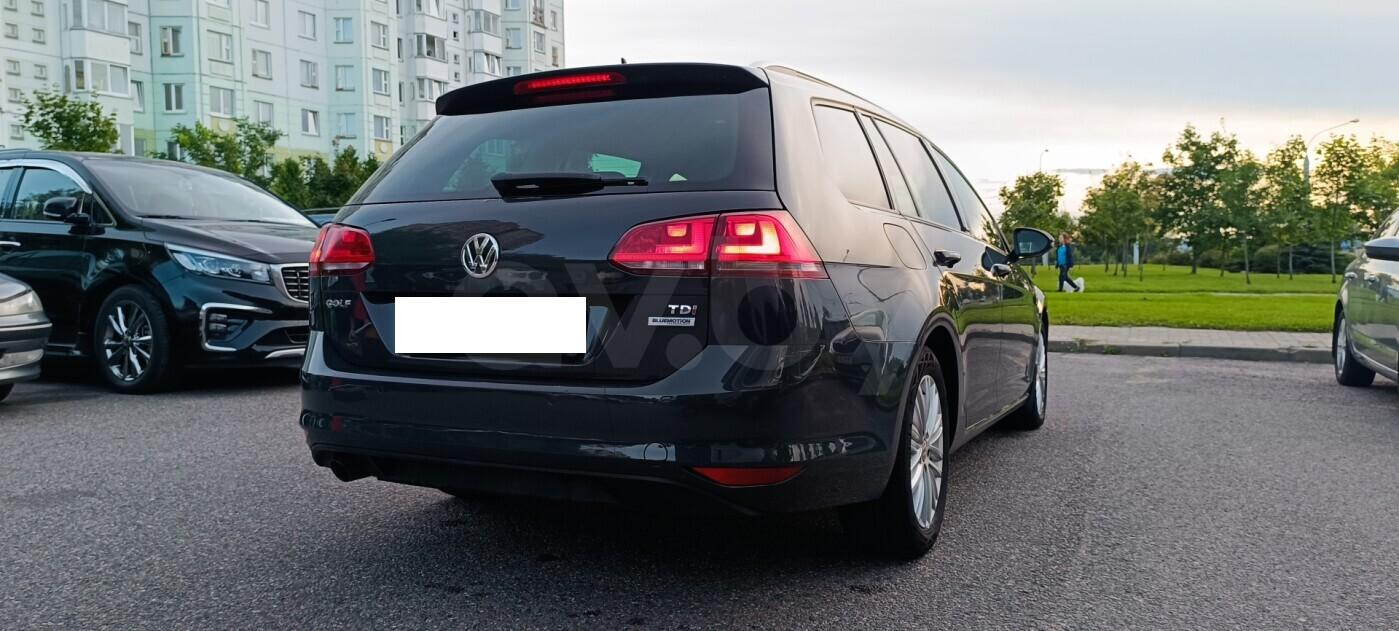Golf_2012-2017: (293, 56, 1056, 566)
